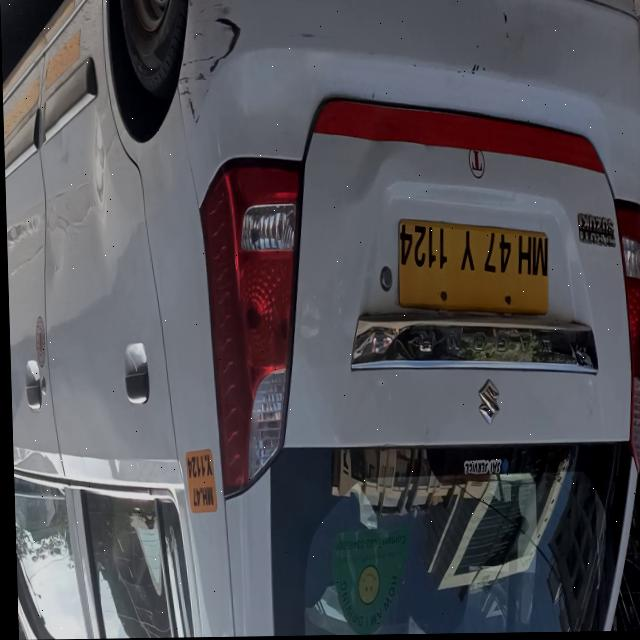plate: (394, 218, 549, 320), (176, 444, 218, 520)
